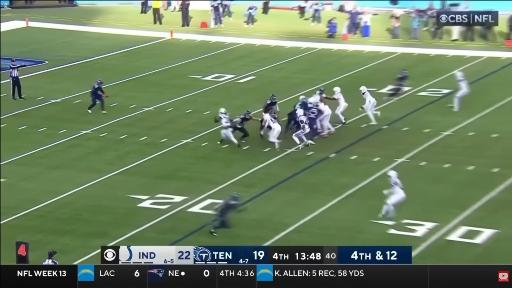Helmet: (387, 170, 397, 178), (262, 113, 271, 121), (231, 193, 239, 202), (455, 70, 464, 78), (270, 111, 277, 120), (270, 94, 277, 102), (296, 109, 303, 117), (360, 86, 367, 93), (318, 87, 325, 94), (312, 102, 319, 108), (334, 87, 340, 93), (299, 96, 306, 101), (219, 108, 226, 113), (97, 80, 103, 85), (245, 110, 251, 114), (401, 70, 407, 74)
Jersey: (217, 200, 238, 217), (233, 114, 252, 127), (390, 178, 404, 194), (306, 104, 320, 120), (455, 72, 468, 89), (295, 116, 308, 133), (91, 83, 104, 98), (263, 100, 278, 113), (263, 116, 277, 128), (219, 115, 231, 129), (396, 73, 408, 85), (334, 93, 345, 105), (308, 93, 321, 103), (320, 104, 331, 115), (295, 101, 308, 110), (362, 91, 373, 101)
Player: (379, 170, 406, 218), (211, 193, 240, 235), (232, 110, 260, 142), (218, 108, 240, 147), (292, 110, 314, 149), (450, 70, 470, 111), (285, 96, 307, 133), (326, 87, 347, 125), (360, 87, 380, 124), (386, 70, 408, 99), (263, 114, 281, 149), (88, 80, 107, 113), (306, 102, 321, 139), (319, 103, 334, 136), (263, 94, 278, 115), (308, 88, 325, 103)
